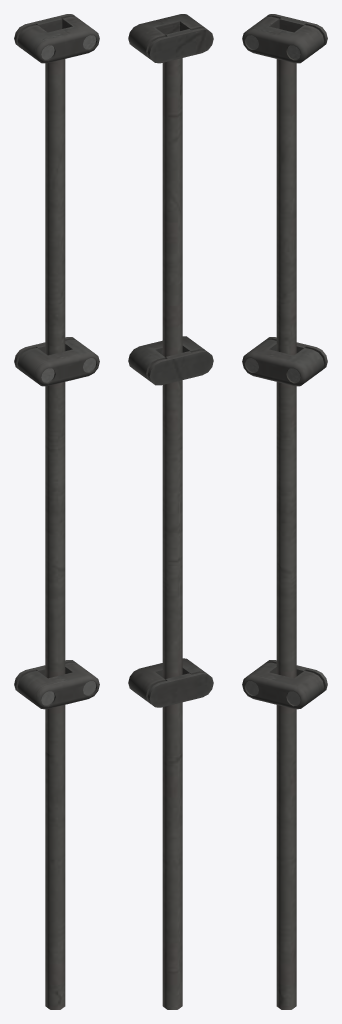
Rendered from cable_straight_long.gltf.
The picture shows the model from 3 angles, left to right: view 1: azimuth 30°, elevation 25°; view 2: azimuth 210°, elevation 25°; view 3: azimuth 330°, elevation 25°; orthographic projection.
Visible parts, largest first — view 1: cable_straight_long; view 2: cable_straight_long; view 3: cable_straight_long.
Boxes of the visible parts, x1=… form: cable_straight_long: x1=14, y1=14, x2=99, y2=1009; cable_straight_long: x1=128, y1=14, x2=213, y2=1009; cable_straight_long: x1=242, y1=14, x2=327, y2=1009.
Size of the model in its own units: 0.0416 by 0.6073 by 0.0259.
1 material, 1 textured.
